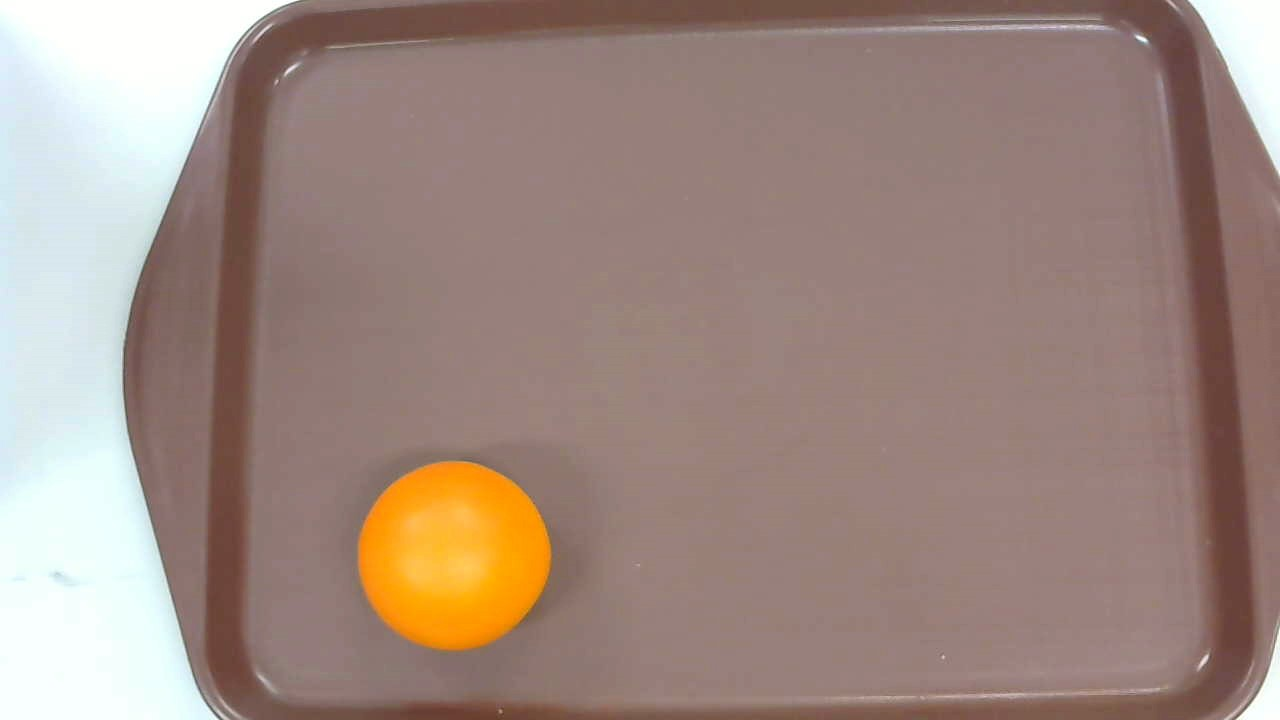bun: (356, 462, 553, 651)
